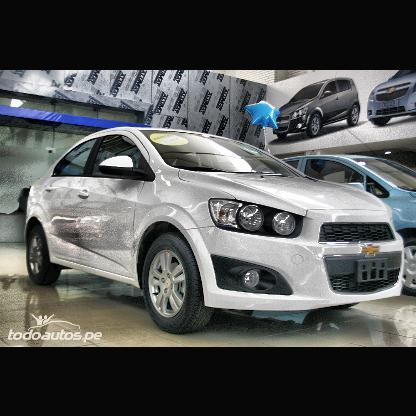Chevrolet Sonic Sedan 2012: (25, 126, 405, 334)
